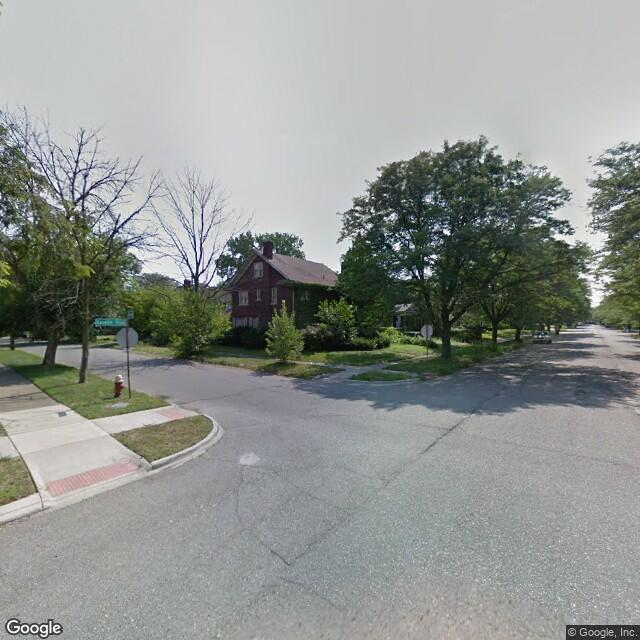litter: (260, 368, 265, 371), (309, 362, 314, 364)
